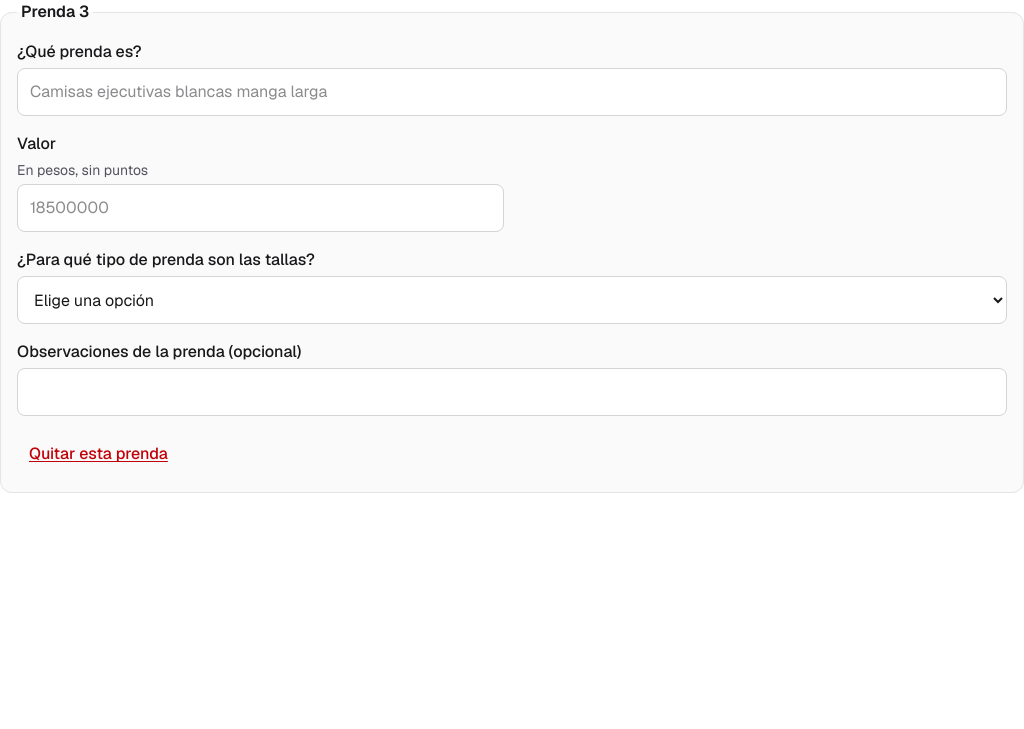
Scenario: FilaPrenda · tallaje › la cantidad es la suma de las casillas y se actualiza al escribir
Select "Inferior hombre" in the dropdown labelled "¿Para qué tipo de prenda son las tallas?": x=512, y=300 [17,276,1007,324]
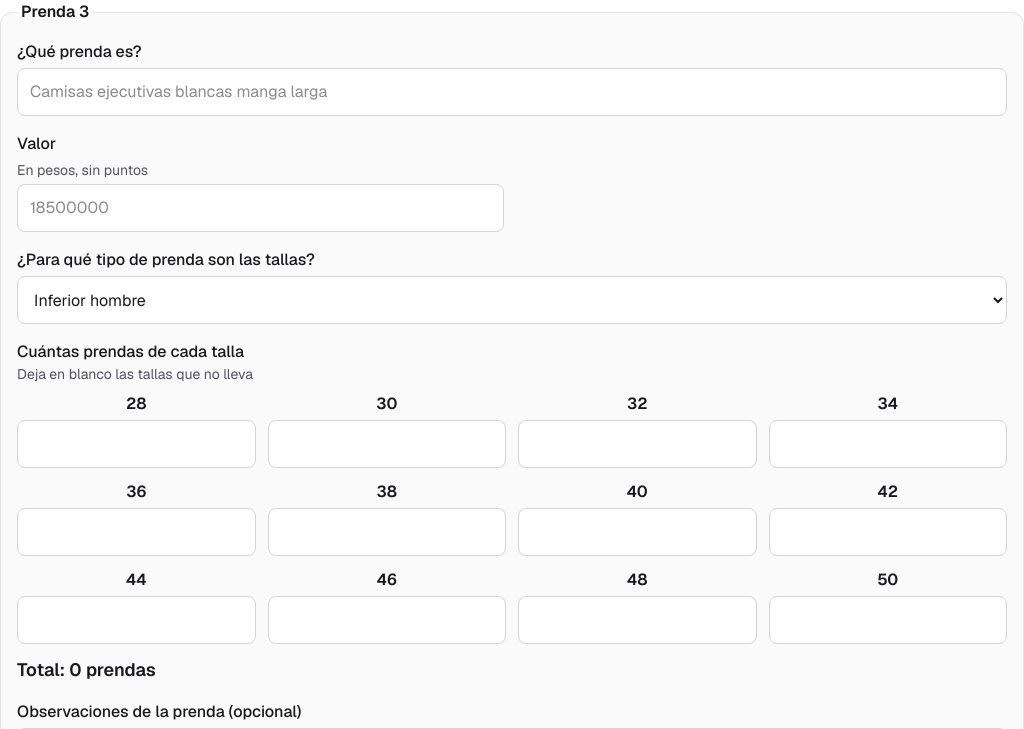
Check: the message reads "Total: 0 prendas", box [17,658,156,681]
In the field labelled "30": x=387, y=444 [268,420,506,468], type "12"
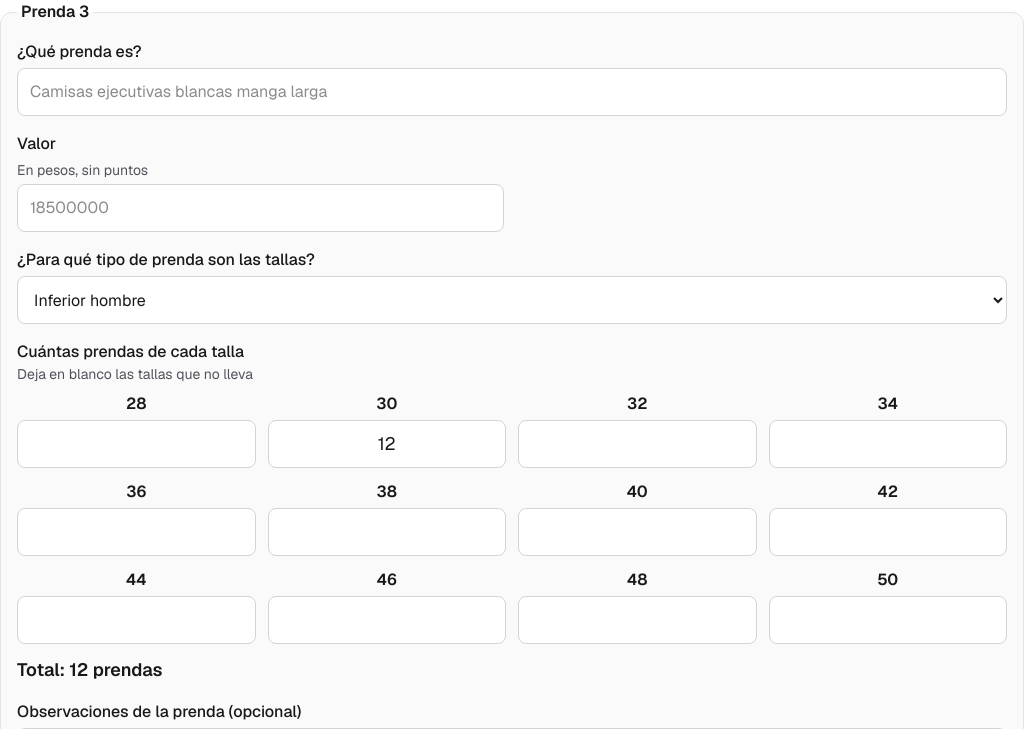
In the field labelled "32": x=637, y=444 [518,420,756,468], type "8"
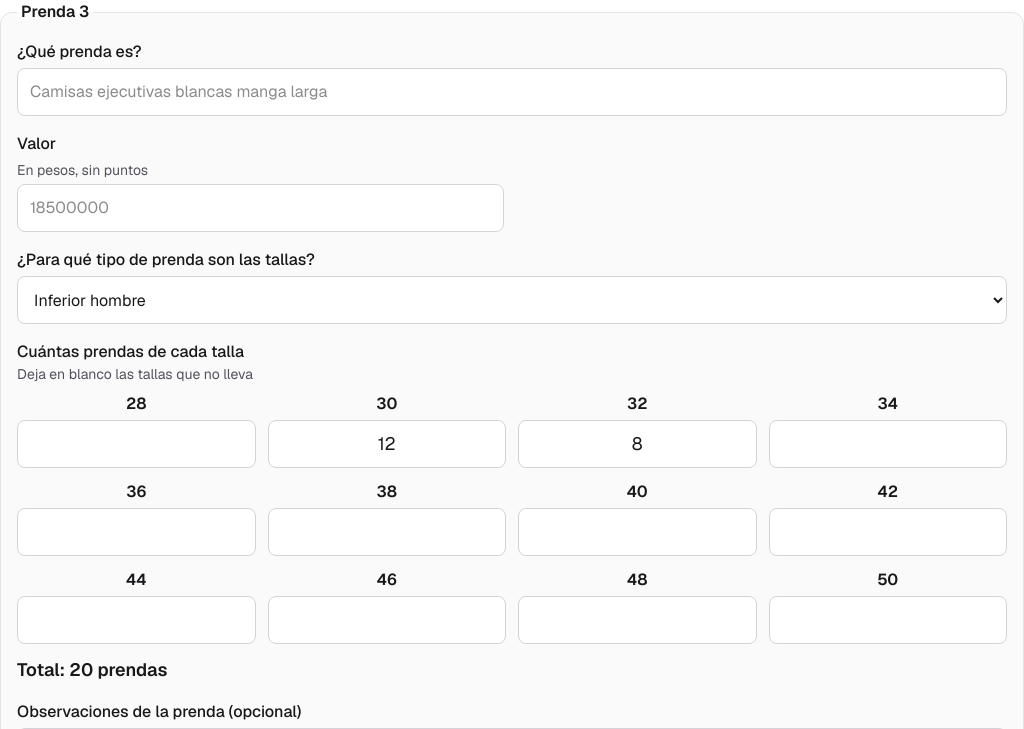
Check: the message reads "Total: 20 prendas", box [17,658,167,681]
